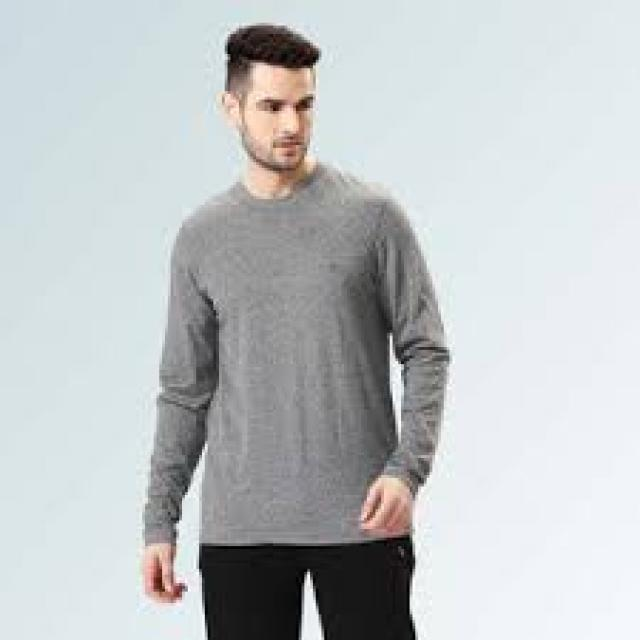plain: (146, 174, 451, 548)
